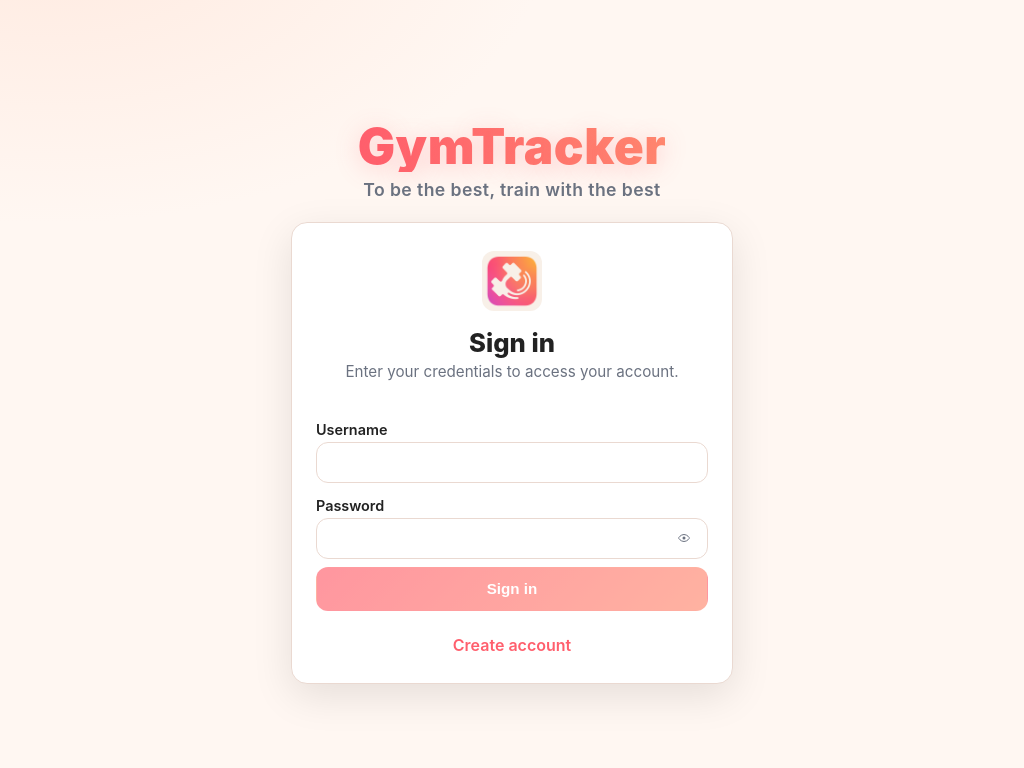
LoginPage › displays error message on failure
In the field labelled "Username": (512, 462) [316,442,708,483], type "wrong"
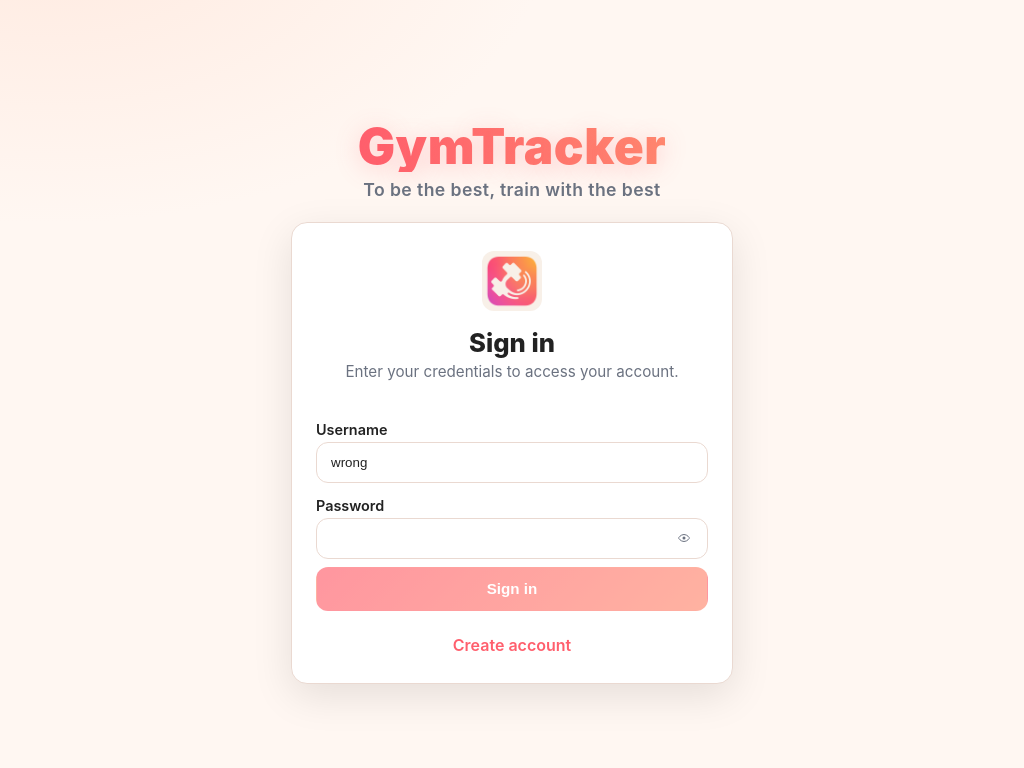
In the password field labelled "Password": (512, 538) [316,518,708,559], type "wrong"
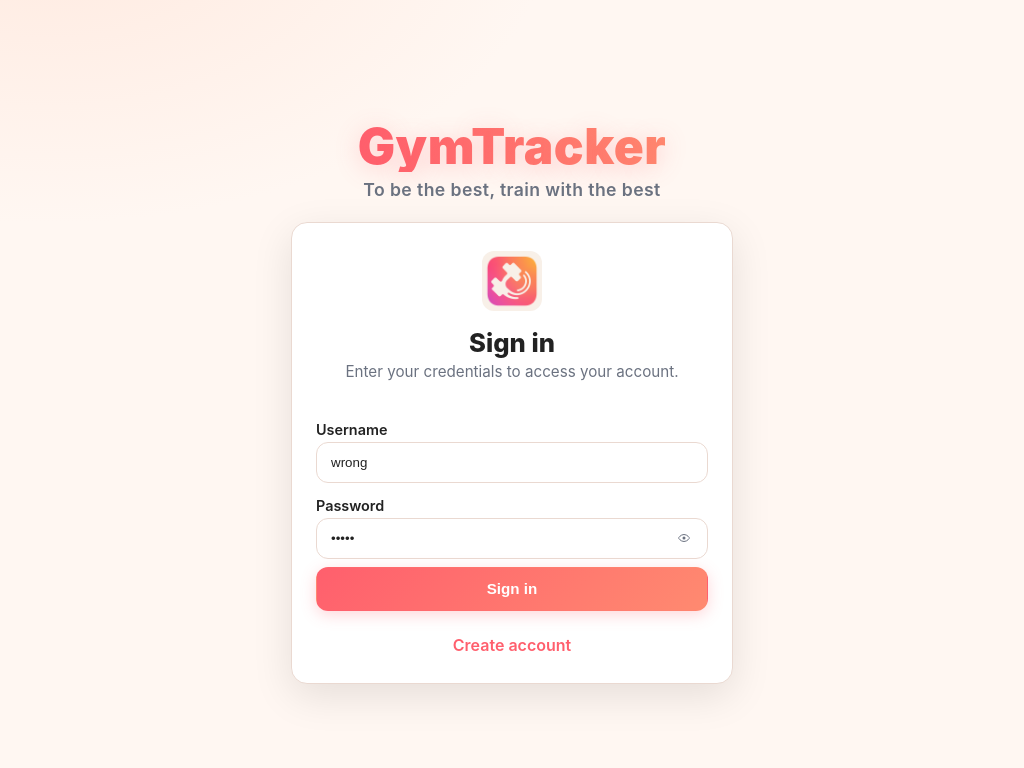
Click the button "Sign in": (512, 589) [316,567,708,611]
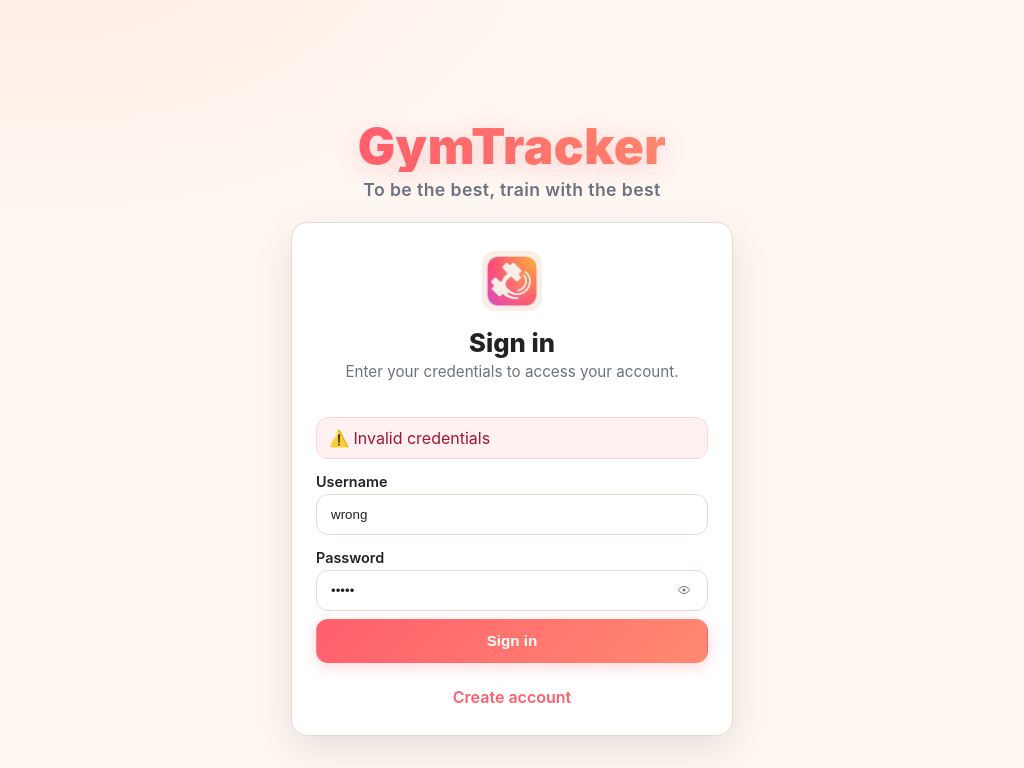
Expected: the text "⚠️ Invalid credentials" is shown, [316,417,708,459]
